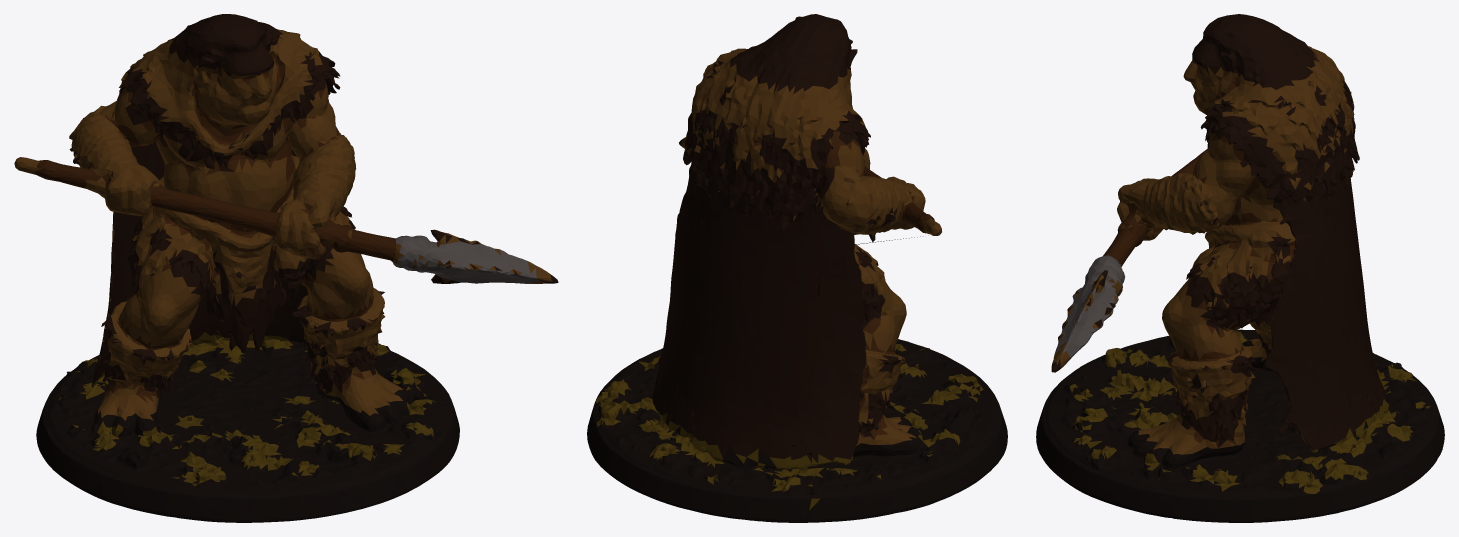
Rendered from ogro_lanca.glb.
The picture shows the model from 3 angles, left to right: view 1: azimuth 30°, elevation 25°; view 2: azimuth 150°, elevation 25°; view 3: azimuth 270°, elevation 25°; orthographic projection. The views are drawn at different scales.
Visible parts, largest first — view 1: tmpn5f4jo7c.ply; view 2: tmpn5f4jo7c.ply; view 3: tmpn5f4jo7c.ply.
Part boxes in pixels (x1,y1,x2,y2): tmpn5f4jo7c.ply: (14,14,558,522); tmpn5f4jo7c.ply: (587,14,1007,522); tmpn5f4jo7c.ply: (1036,14,1444,522).
Size of the model in its own units: 1.96 by 1.96 by 1.77.
